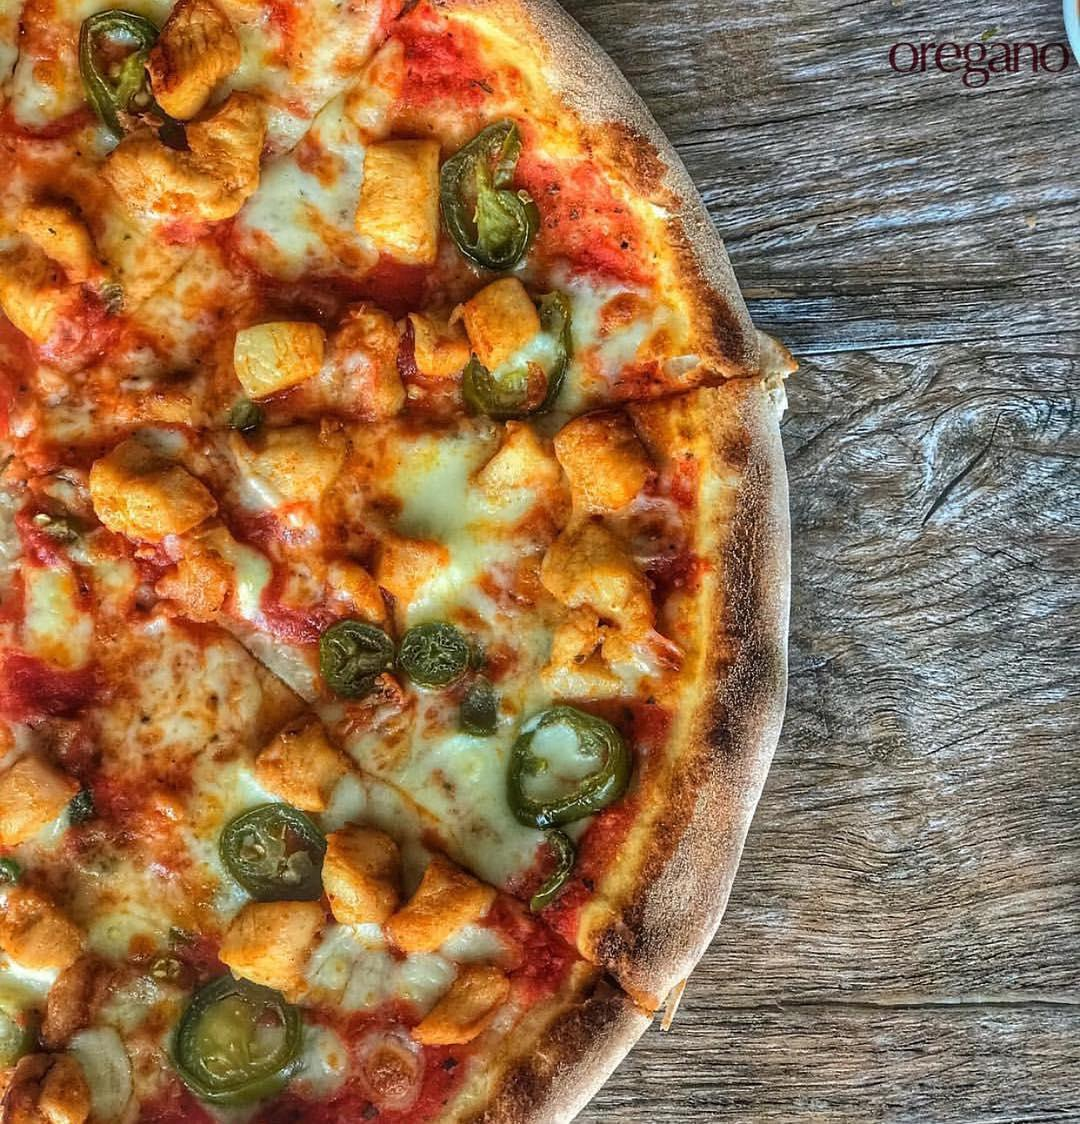Chicken: (534, 515, 670, 677), (83, 430, 224, 550), (349, 121, 450, 275), (93, 134, 248, 234), (550, 396, 665, 518), (20, 539, 111, 688), (377, 854, 504, 957), (218, 885, 330, 1001), (144, 0, 247, 123), (5, 184, 120, 292), (400, 946, 516, 1051), (315, 813, 410, 939), (447, 274, 555, 381), (250, 701, 354, 812), (465, 411, 572, 515), (0, 742, 90, 864), (239, 407, 353, 504), (0, 873, 94, 988), (185, 84, 273, 206), (358, 516, 462, 605), (225, 312, 333, 396), (0, 245, 80, 336), (398, 303, 482, 390)
Peppers: (163, 967, 308, 1111), (498, 690, 640, 836), (432, 106, 540, 281), (207, 793, 335, 912), (460, 286, 574, 419), (73, 4, 165, 149), (309, 615, 397, 707), (509, 814, 577, 917), (388, 614, 476, 687), (450, 678, 502, 739)
Pizza: (0, 0, 797, 1124)
